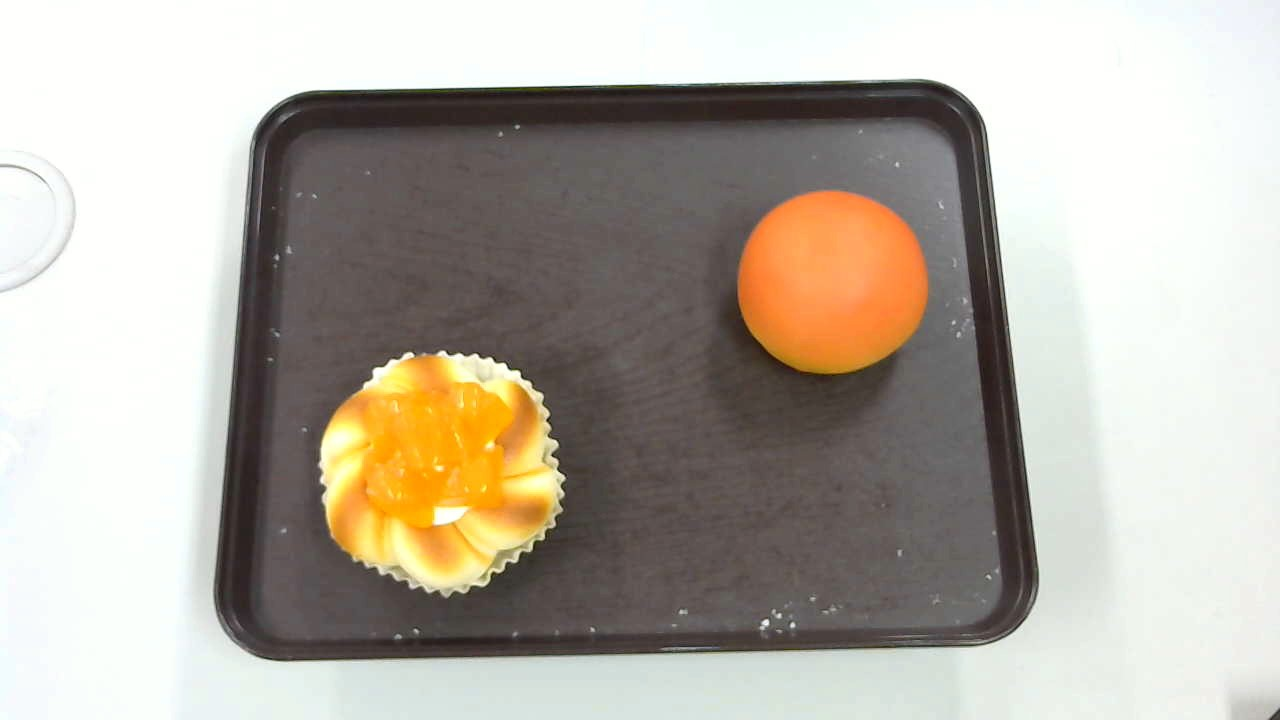bun: (737, 189, 929, 376)
mango tart: (318, 350, 567, 598)
